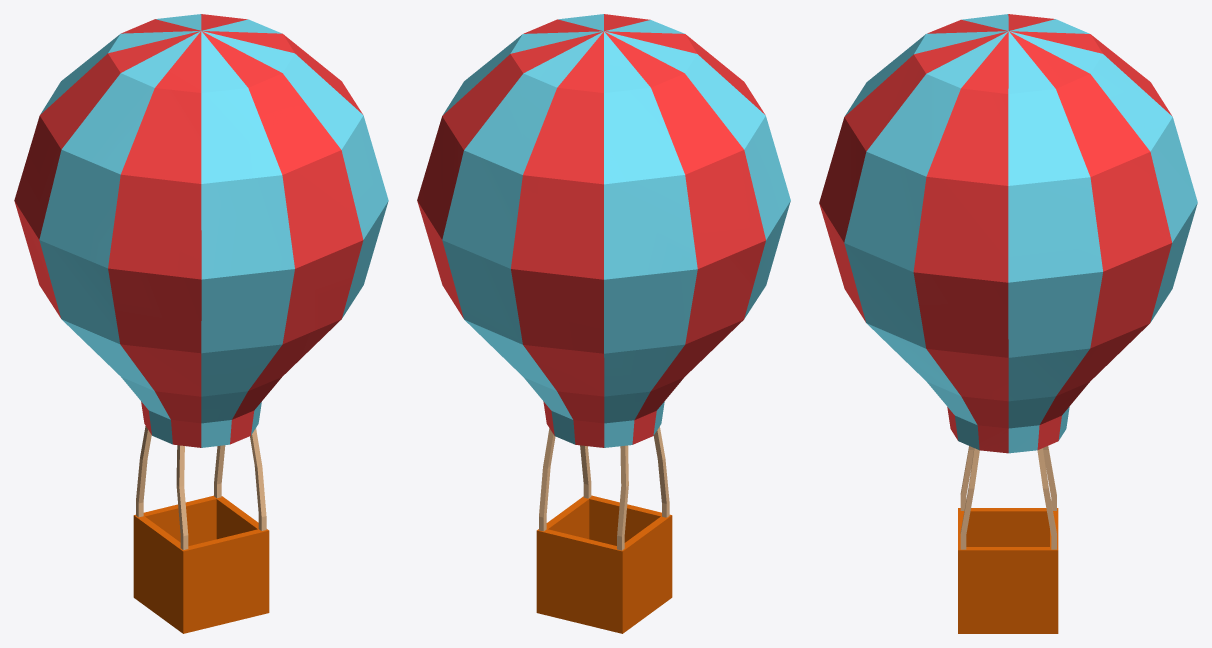
File: Baloon.glb
3 renders of one model, left to right at view 1: azimuth 30°, elevation 25°; view 2: azimuth 150°, elevation 25°; view 3: azimuth 270°, elevation 25°, orthographic.
Parts seen in each view (by area): view 1: Baloon; view 2: Baloon; view 3: Baloon.
Boxes of the visible parts, box(x1,y1,x2,y2) form: Baloon: box(14, 14, 388, 633); Baloon: box(417, 14, 790, 633); Baloon: box(819, 14, 1197, 633).
Bounding box in the file's own units: 10.69 × 18.09 × 10.68.
Materials: 1 (1 with a texture image).
